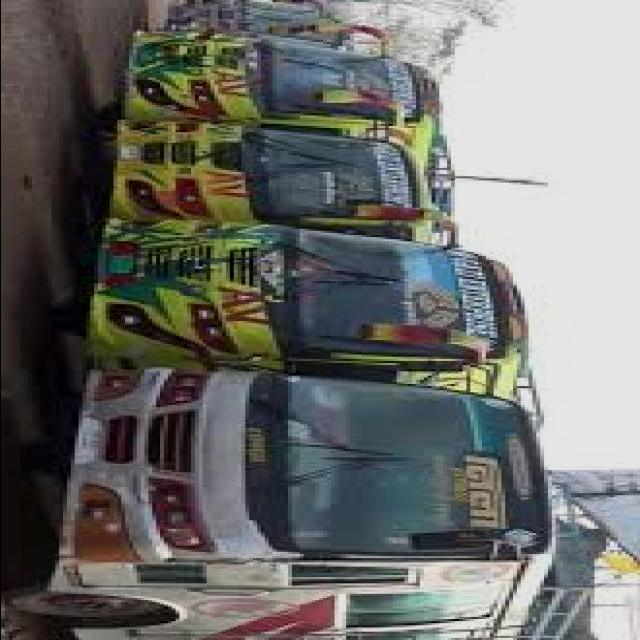bus: (5, 368, 559, 639), (54, 220, 530, 397), (123, 30, 443, 169)
